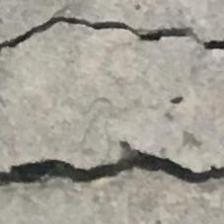Crack: (0, 130, 224, 212), (2, 14, 224, 66)
